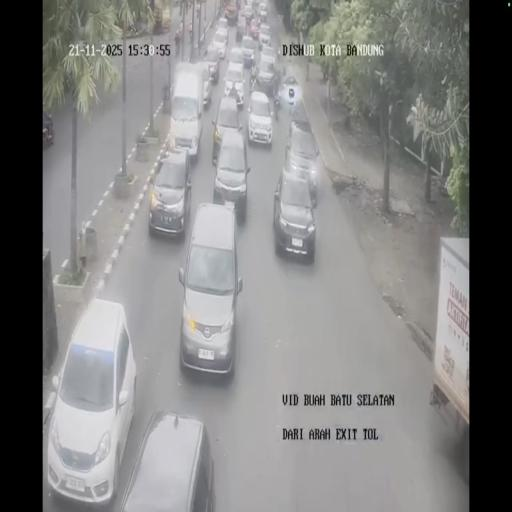car: (46, 299, 136, 505), (177, 201, 242, 375), (148, 144, 193, 238), (284, 112, 320, 203), (212, 94, 243, 164), (246, 90, 274, 146), (222, 62, 246, 105), (194, 60, 214, 111), (278, 76, 302, 116), (256, 52, 276, 94), (240, 34, 256, 68), (212, 27, 228, 60), (258, 22, 272, 46), (236, 16, 246, 39), (249, 19, 260, 39), (242, 4, 254, 22), (259, 1, 267, 20), (252, 0, 259, 16)
motorcycle: (127, 20, 138, 35), (174, 31, 180, 56)
truck: (153, 1, 171, 32), (224, 2, 238, 24)
